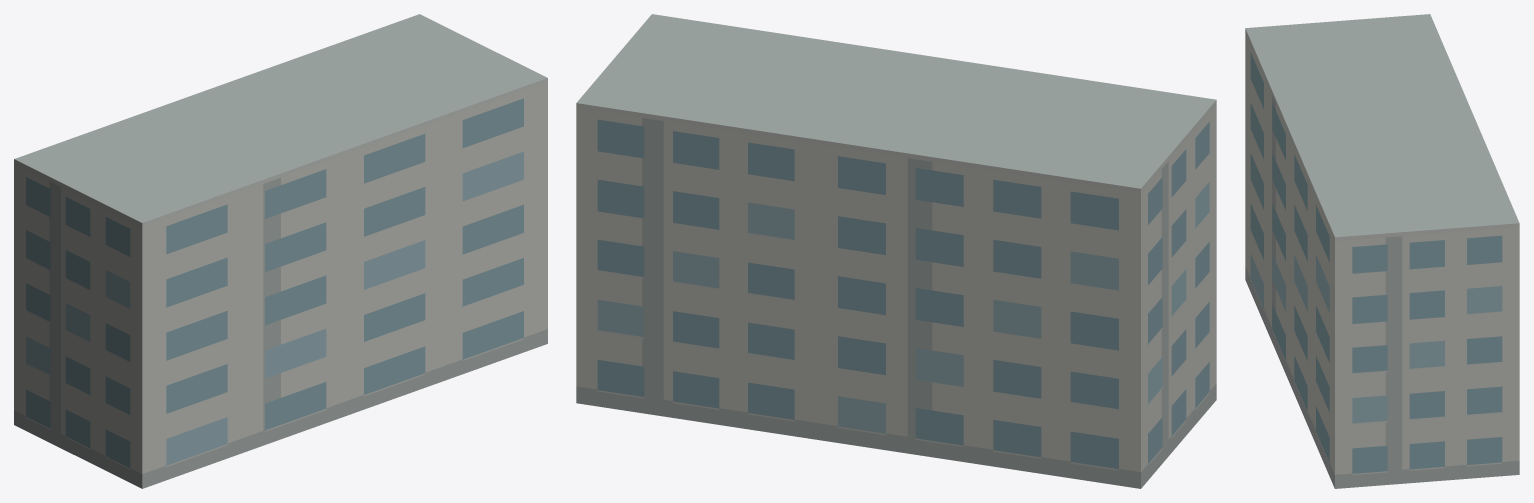
Rendered from residential-f8edc6bc-2ca8-4233-b584-e5303717c626.glb.
The picture shows the model from 3 angles, left to right: view 1: azimuth 30°, elevation 25°; view 2: azimuth 150°, elevation 25°; view 3: azimuth 270°, elevation 25°; orthographic projection. The views are drawn at different scales.
Visible parts, largest first — view 1: residential-f8edc6bc-2ca8-4233-b584-e5303717c626.tmp; view 2: residential-f8edc6bc-2ca8-4233-b584-e5303717c626.tmp; view 3: residential-f8edc6bc-2ca8-4233-b584-e5303717c626.tmp.
Part boxes in pixels (<box>): residential-f8edc6bc-2ca8-4233-b584-e5303717c626.tmp: <box>14,14,547,488</box>; residential-f8edc6bc-2ca8-4233-b584-e5303717c626.tmp: <box>576,14,1216,488</box>; residential-f8edc6bc-2ca8-4233-b584-e5303717c626.tmp: <box>1245,14,1519,488</box>.
Bounding box in the file's own units: 29.03 × 15.25 × 15.07.
